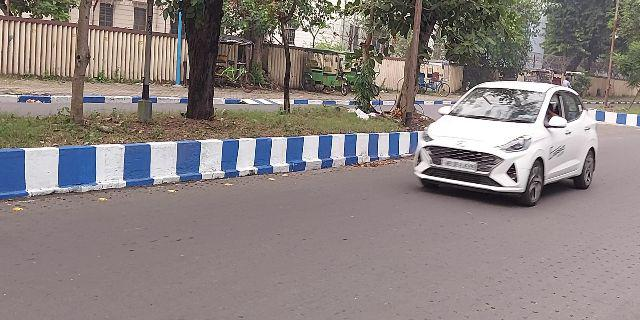Car: (411, 71, 609, 205)
